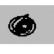correct: (7, 13, 36, 38)
